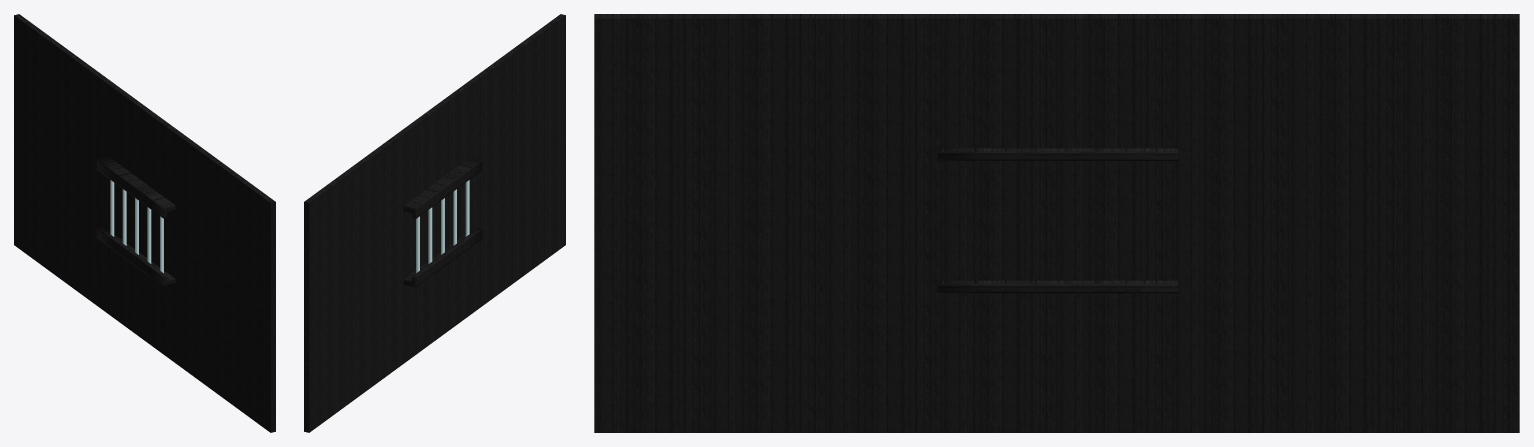
File: neons-w-flickering-anim-webgl.obj
3 renders of one model, left to right at view 1: azimuth 30°, elevation 25°; view 2: azimuth 150°, elevation 25°; view 3: azimuth 270°, elevation 25°, orthographic. The views are drawn at different scales.
Parts seen in each view (by area): view 1: wall, Box, Box1, Cylinder2, Cylinder3, Cylinder1; view 2: wall, Box, Box1, Cylinder2, Cylinder4; view 3: wall, Box1, Box.
Part boxes in pixels (<box>): wall: <box>14,14,275,432</box>; Box: <box>96,156,175,218</box>; Box1: <box>96,227,175,286</box>; Cylinder2: <box>122,189,126,245</box>; Cylinder3: <box>147,207,151,263</box>; Cylinder1: <box>110,180,114,236</box>; wall: <box>304,14,565,432</box>; Box: <box>403,157,482,218</box>; Box1: <box>403,227,482,287</box>; Cylinder2: <box>428,207,432,263</box>; Cylinder4: <box>465,180,469,236</box>; wall: <box>594,14,1519,432</box>; Box1: <box>937,280,1178,293</box>; Box: <box>937,148,1178,160</box>.
Bounding box in the file's own units: 1.2 × 12.8 × 25.9.
Materials: 2 (1 with a texture image).
